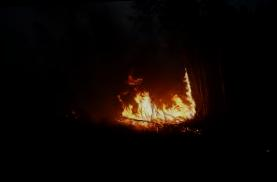fire: (115, 67, 197, 127)
